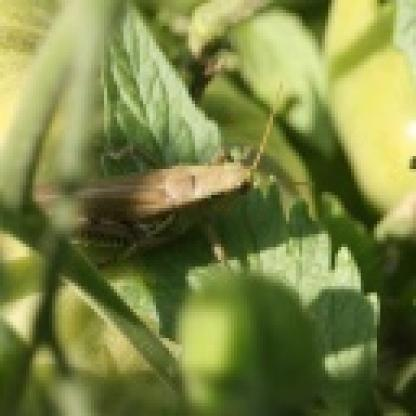grasshopper: (29, 110, 279, 284)
